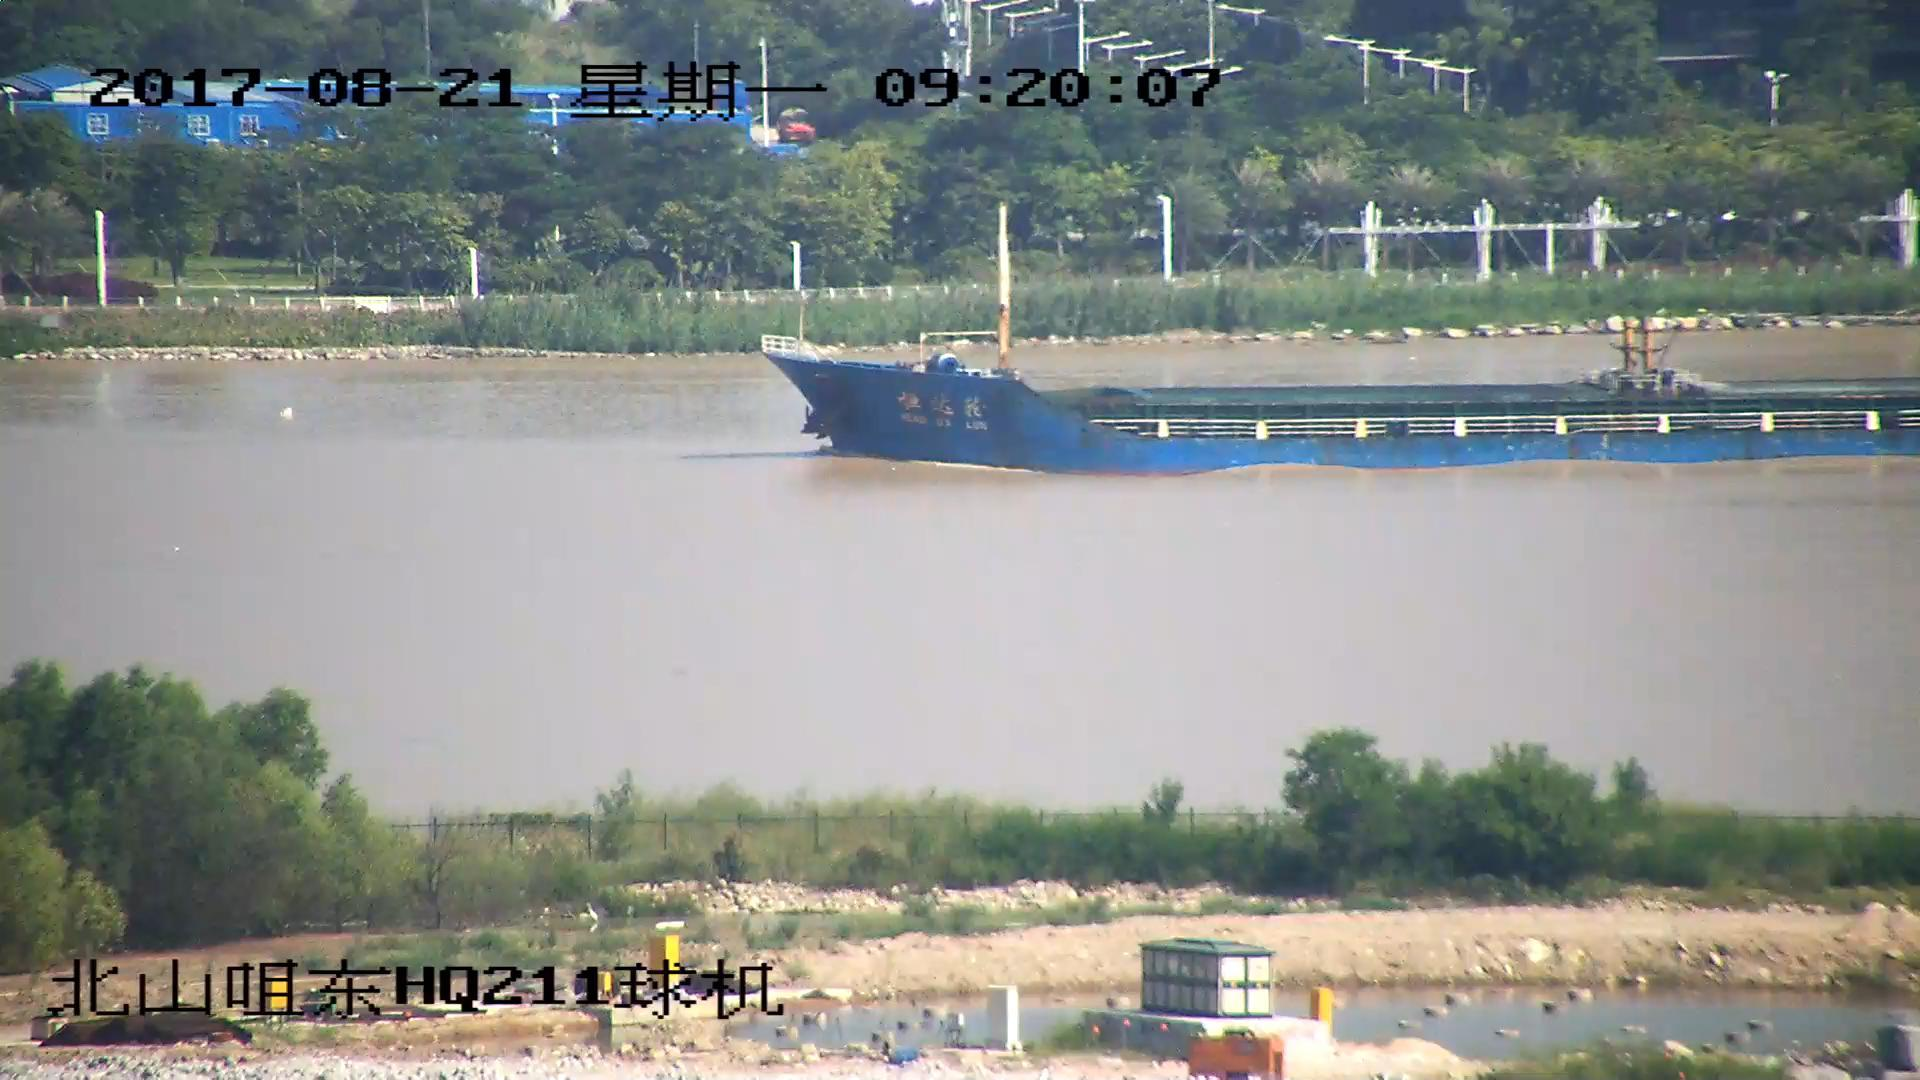Ship: (760, 210, 1920, 479)
